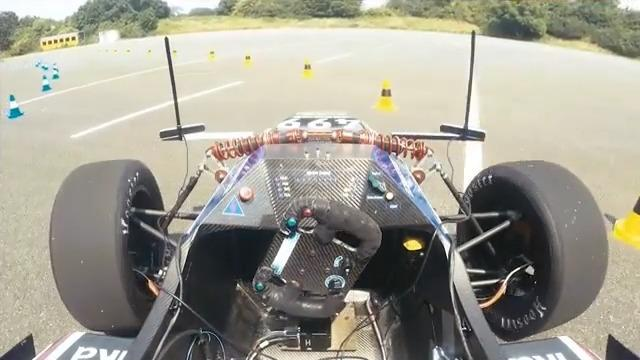blue_cone: (7, 94, 24, 119), (41, 75, 51, 91)
yellow_cone: (611, 186, 640, 247), (374, 78, 398, 111), (299, 59, 316, 80)
